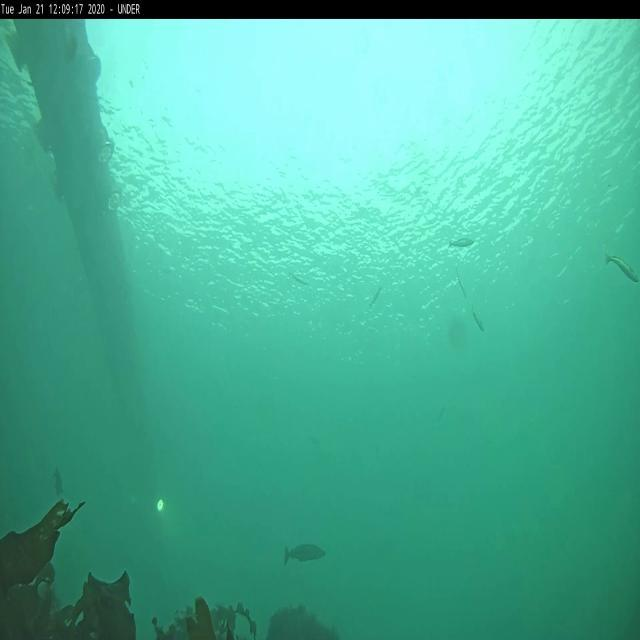fish: (605, 253, 638, 287), (284, 540, 326, 566), (52, 466, 66, 499), (369, 282, 382, 310), (470, 310, 484, 333), (288, 270, 308, 286), (448, 237, 473, 247)
